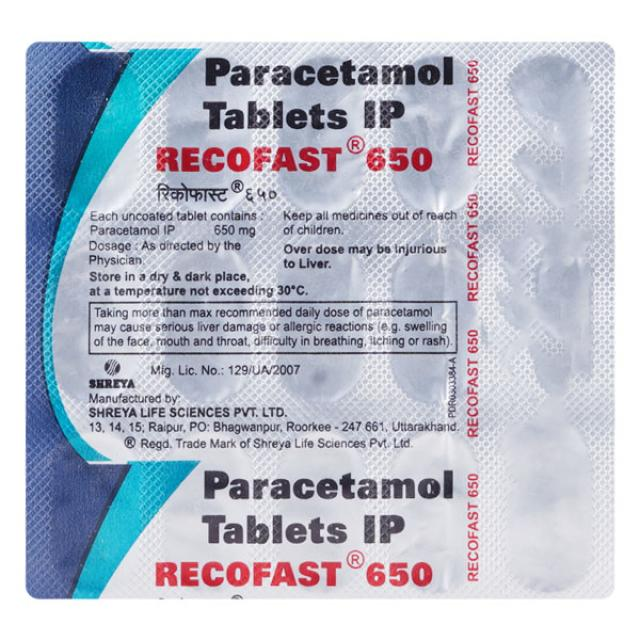Medicine-name: (203, 52, 466, 136)
